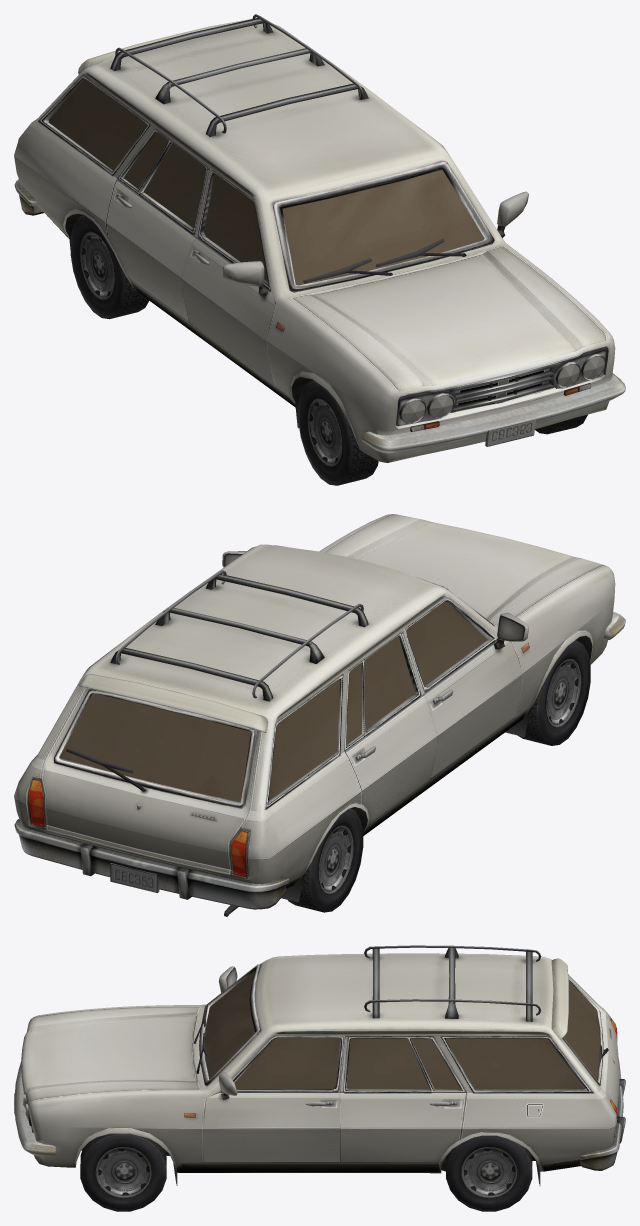
The model's file is wagon.FBX.
The picture shows the model from 3 angles, top to bottom: view 1: azimuth 30°, elevation 25°; view 2: azimuth 150°, elevation 25°; view 3: azimuth 270°, elevation 25°; orthographic projection. The views are drawn at different scales.
Visible parts, largest first — view 1: OS_wag01, winshild, door_R, wheel_F_R, wheel_R_R, door_L; view 2: OS_wag01, winshild, door_R, wheel_F_R, wheel_R_R; view 3: OS_wag01, winshild, door_L, wheel_F_L, wheel_R_L.
Part boxes in pixels (x1,y1,x2,y2): OS_wag01: [14, 14, 625, 462]; winshild: [48, 79, 604, 422]; door_R: [181, 167, 275, 382]; wheel_F_R: [298, 380, 378, 485]; wheel_R_R: [70, 214, 148, 319]; door_L: [497, 191, 528, 237]; OS_wag01: [14, 514, 625, 916]; winshild: [59, 602, 487, 801]; door_R: [403, 598, 528, 777]; wheel_F_R: [518, 640, 590, 745]; wheel_R_R: [288, 808, 363, 912]; OS_wag01: [14, 945, 625, 1185]; winshild: [23, 971, 599, 1121]; door_L: [204, 1035, 344, 1161]; wheel_F_L: [80, 1133, 166, 1211]; wheel_R_L: [446, 1135, 532, 1211].
Size of the model in its own units: 20.29 by 15.21 by 43.88.
